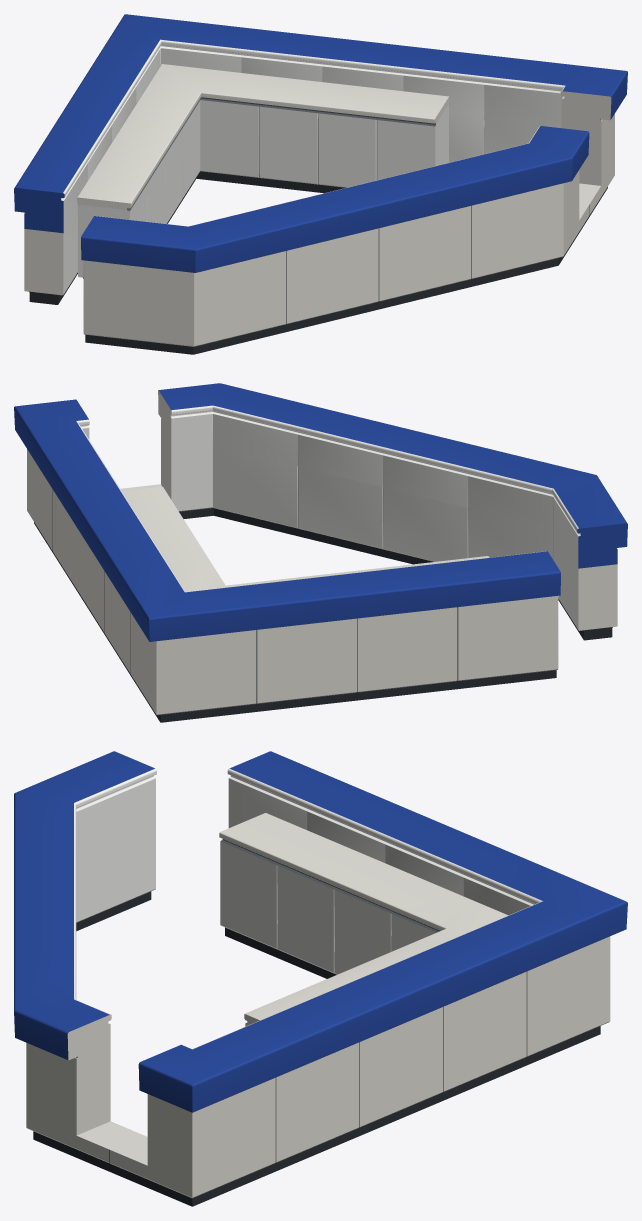
File: checkout-counter-shield-laminate-1990.glb
3 renders of one model, top to bottom at view 1: azimuth 30°, elevation 25°; view 2: azimuth 150°, elevation 25°; view 3: azimuth 270°, elevation 25°, orthographic. The views are drawn at different scales.
Parts seen in each view (by area): view 1: shield-surround-0, shield-work-cabinet; view 2: shield-surround-0, shield-work-cabinet; view 3: shield-surround-0, shield-work-cabinet.
Part boxes in pixels (x1,y1,x2,y2): shield-surround-0: [14, 14, 627, 354]; shield-work-cabinet: [76, 64, 449, 278]; shield-surround-0: [14, 383, 627, 722]; shield-work-cabinet: [122, 486, 489, 591]; shield-surround-0: [14, 751, 627, 1206]; shield-work-cabinet: [219, 813, 508, 1026].
Size of the model in its own units: 19.09 by 3.54 by 14.8.
